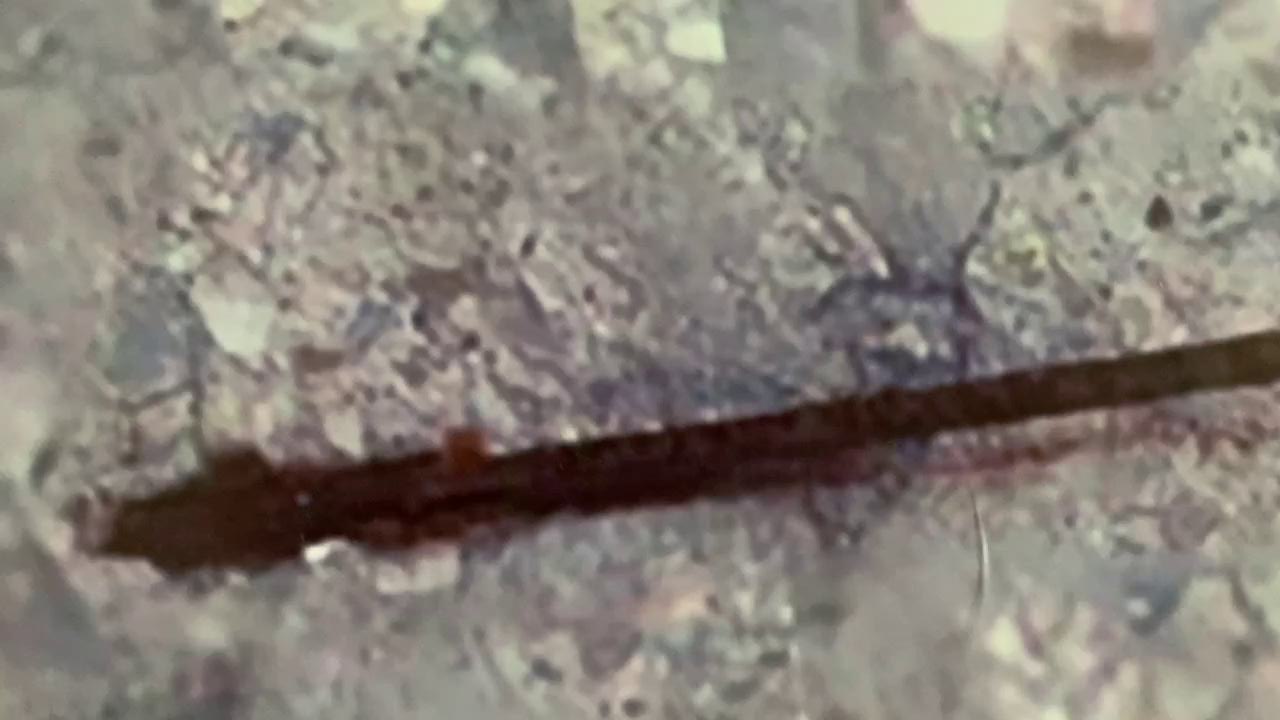Exposed reinforcement: (89, 325, 1280, 579)
